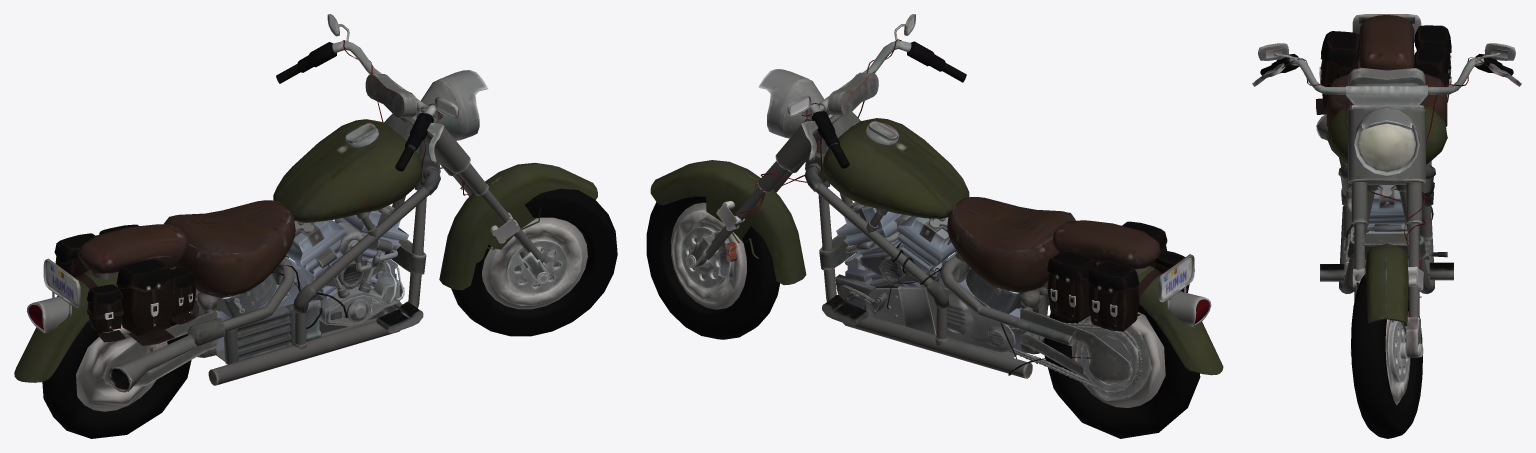
3 renders of one model, left to right at view 1: azimuth 30°, elevation 25°; view 2: azimuth 150°, elevation 25°; view 3: azimuth 270°, elevation 25°, orthographic. The views are drawn at different scales.
Visible parts, largest first — view 1: body, wheel_FL_mesh, wheel_RL_mesh; view 2: body, wheel_FL_mesh, wheel_RL_mesh; view 3: body, wheel_FL_mesh.
Boxes of the visible parts, box(x1,y1,x2,y2) form: body: box(14, 14, 597, 392); wheel_FL_mesh: box(451, 188, 617, 336); wheel_RL_mesh: box(42, 320, 191, 438); body: box(650, 14, 1223, 382); wheel_FL_mesh: box(646, 196, 779, 339); wheel_RL_mesh: box(1033, 304, 1200, 438); body: box(1252, 14, 1521, 326); wheel_FL_mesh: box(1350, 266, 1423, 438).
Size of the model in its own units: 2.42 by 1.23 by 0.9562.
4 materials, 4 textured.
